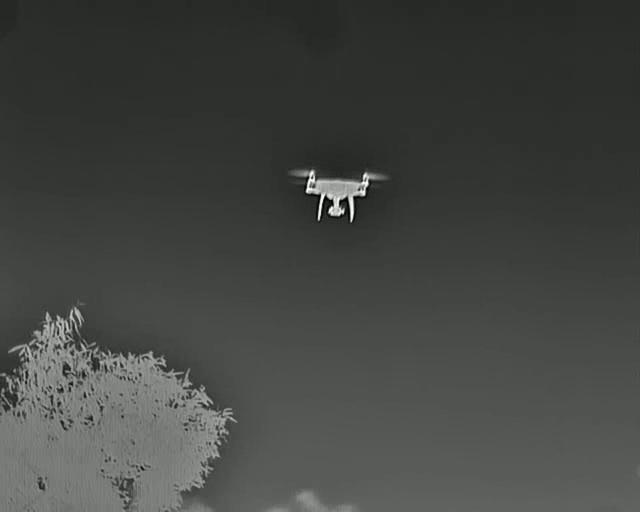DJI-Phantom: (288, 166, 392, 226)
